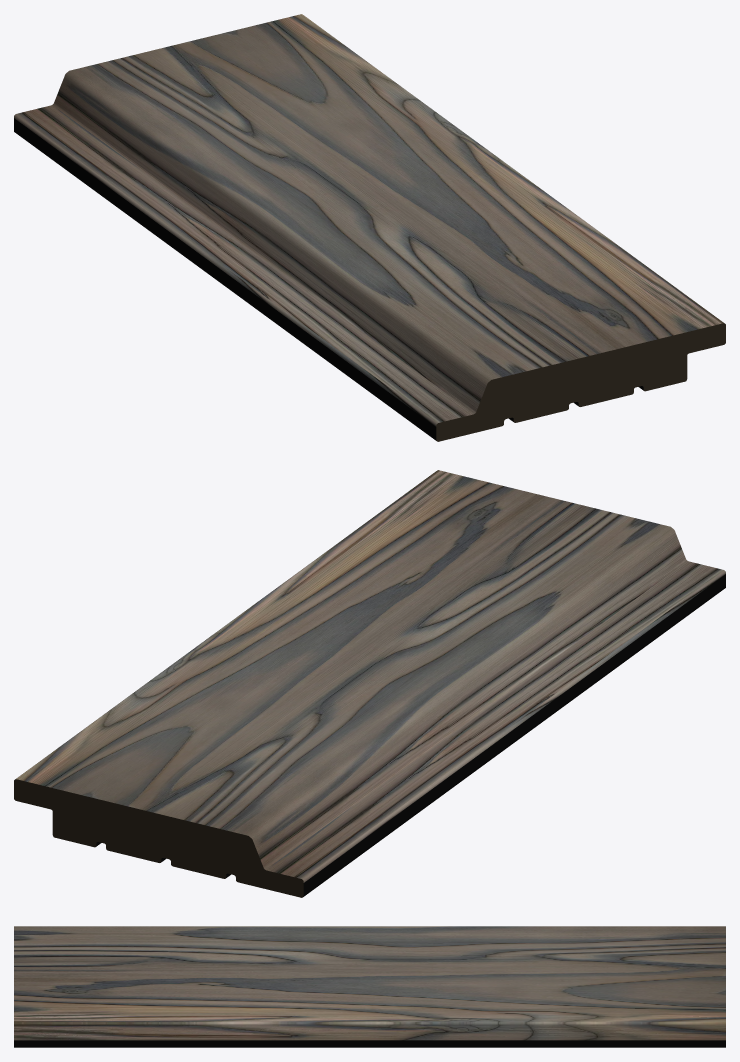
Rendered from larch-facade-half-tongue-latte.glb.
The picture shows the model from 3 angles, top to bottom: view 1: azimuth 30°, elevation 25°; view 2: azimuth 150°, elevation 25°; view 3: azimuth 270°, elevation 25°; orthographic projection. The views are drawn at different scales.
Visible parts, largest first — view 1: Pusė_Špunto; view 2: Pusė_Špunto; view 3: Pusė_Špunto.
Part boxes in pixels (bbox=[...]): Pusė_Špunto: bbox=[14, 14, 725, 441]; Pusė_Špunto: bbox=[14, 470, 725, 897]; Pusė_Špunto: bbox=[14, 926, 725, 1047].
Size of the model in its own units: 0.0723 by 0.0117 by 0.1826.
3 materials, 1 textured.
